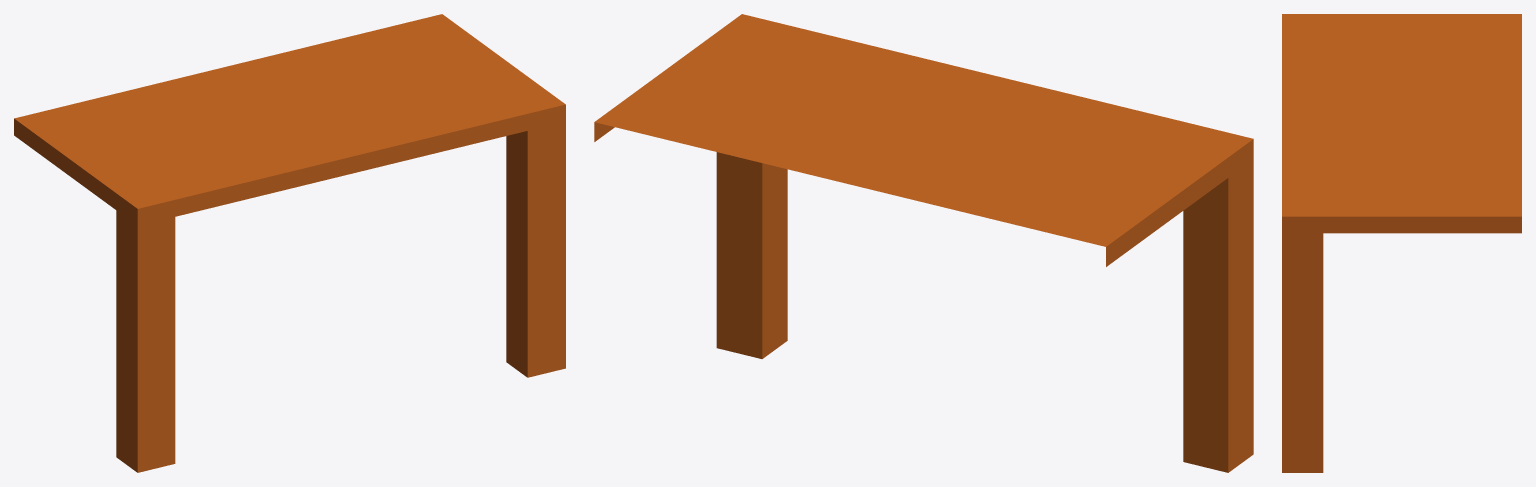
The model's file is masasol.fbx.
3 views of the same model, side by side, from view 1: azimuth 30°, elevation 25°; view 2: azimuth 150°, elevation 25°; view 3: azimuth 270°, elevation 25° (orthographic). The views are drawn at different scales.
Visible parts, largest first — view 1: Plane; view 2: Plane; view 3: Plane.
Part boxes in pixels (bbox=[...]): Plane: bbox=[14, 14, 565, 472]; Plane: bbox=[594, 14, 1253, 472]; Plane: bbox=[1282, 14, 1521, 472].
Bounding box in the file's own units: 636 × 375 × 318.
